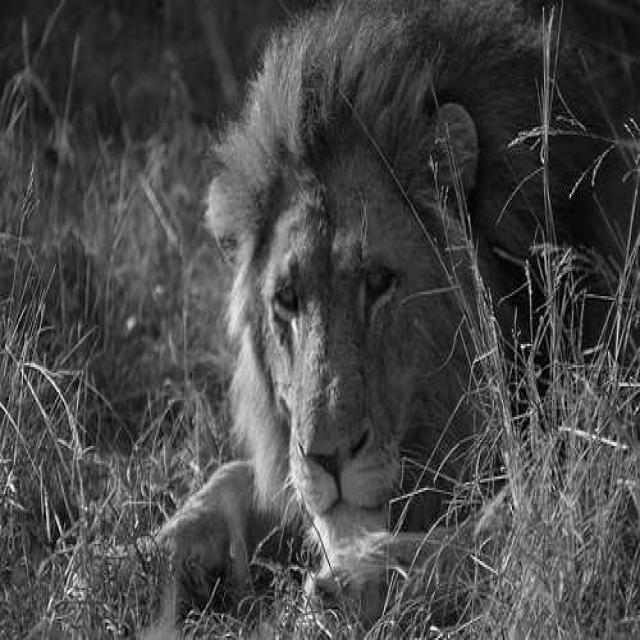Lion: (142, 58, 560, 593)
